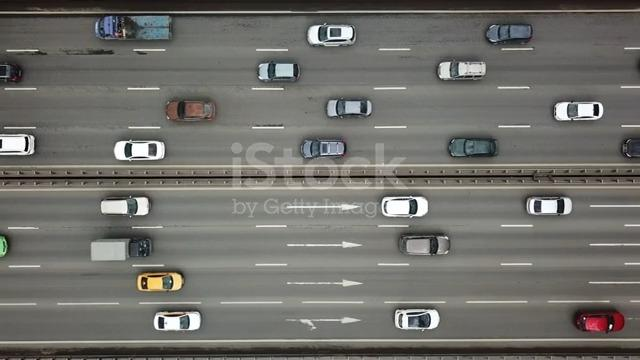Cars: (307, 24, 357, 48), (166, 99, 216, 123), (114, 140, 166, 162), (437, 60, 487, 82), (137, 271, 185, 293), (154, 310, 202, 332), (554, 101, 604, 122), (326, 97, 373, 119), (486, 23, 533, 45), (448, 138, 499, 158), (300, 139, 347, 160), (526, 196, 573, 216), (258, 62, 301, 83), (1, 134, 36, 156), (1, 62, 23, 83), (622, 138, 640, 158)
